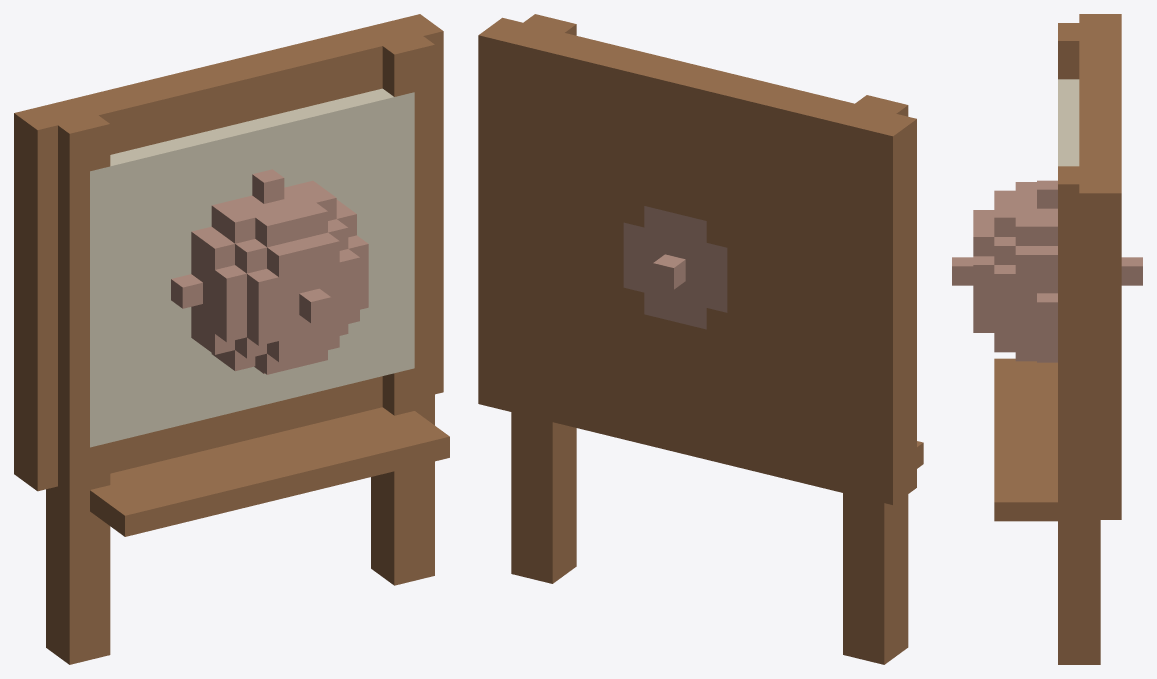
File: art-01.glb
3 renders of one model, left to right at view 1: azimuth 30°, elevation 25°; view 2: azimuth 150°, elevation 25°; view 3: azimuth 270°, elevation 25°, orthographic. The views are drawn at different scales.
Parts seen in each view (by area): view 1: Painting easel; view 2: Painting easel; view 3: Painting easel.
Part boxes in pixels (left/top/right/bottom): Painting easel: left=14, top=14, right=449, bottom=664; Painting easel: left=478, top=14, right=923, bottom=664; Painting easel: left=952, top=14, right=1142, bottom=664.
Size of the model in its own units: 1.6 by 2 by 0.72.
